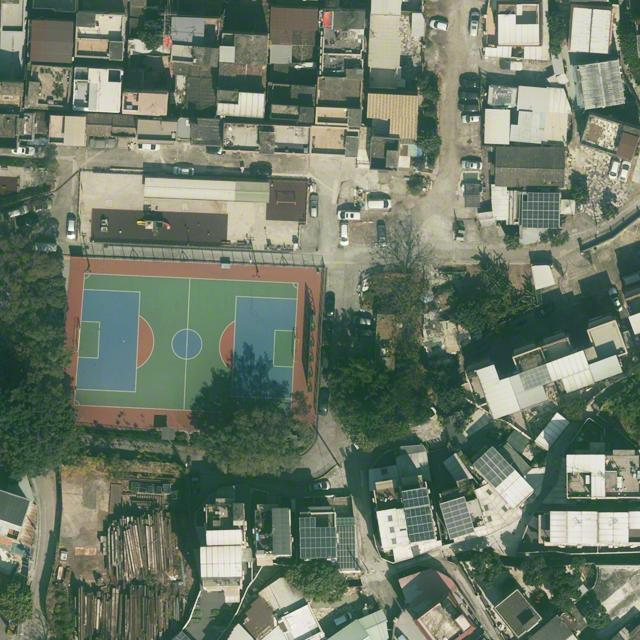panel: (402, 487, 436, 543), (473, 446, 515, 489), (300, 517, 337, 558), (440, 497, 474, 539), (522, 193, 560, 228), (273, 509, 292, 554), (338, 525, 356, 569)
